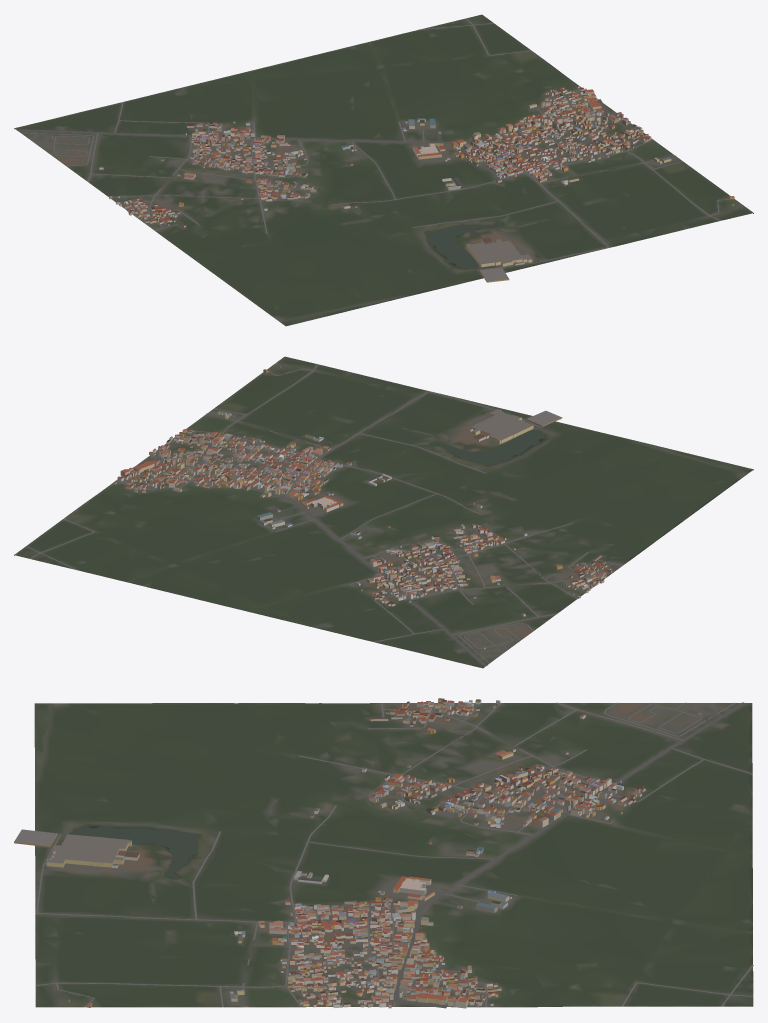
The picture shows the model from 3 angles, top to bottom: view 1: azimuth 30°, elevation 25°; view 2: azimuth 150°, elevation 25°; view 3: azimuth 270°, elevation 25°; orthographic projection. The views are drawn at different scales.
Parts seen in each view (by area): view 1: ground, buildings, roads, water; view 2: ground, buildings, roads, water; view 3: ground, buildings, roads, water.
Boxes of the visible parts, <box> form: ground: <box>14,14,753,326</box>; buildings: <box>52,85,734,282</box>; roads: <box>17,18,734,270</box>; water: <box>424,221,502,268</box>; ground: <box>14,356,753,668</box>; buildings: <box>114,366,611,649</box>; roads: <box>25,364,622,666</box>; water: <box>430,430,545,467</box>; ground: <box>34,703,753,1007</box>; buildings: <box>14,698,701,1008</box>; roads: <box>35,702,753,1008</box>; water: <box>70,826,201,878</box>.
Size of the model in its own units: 1413 by 21.47 by 1446.
